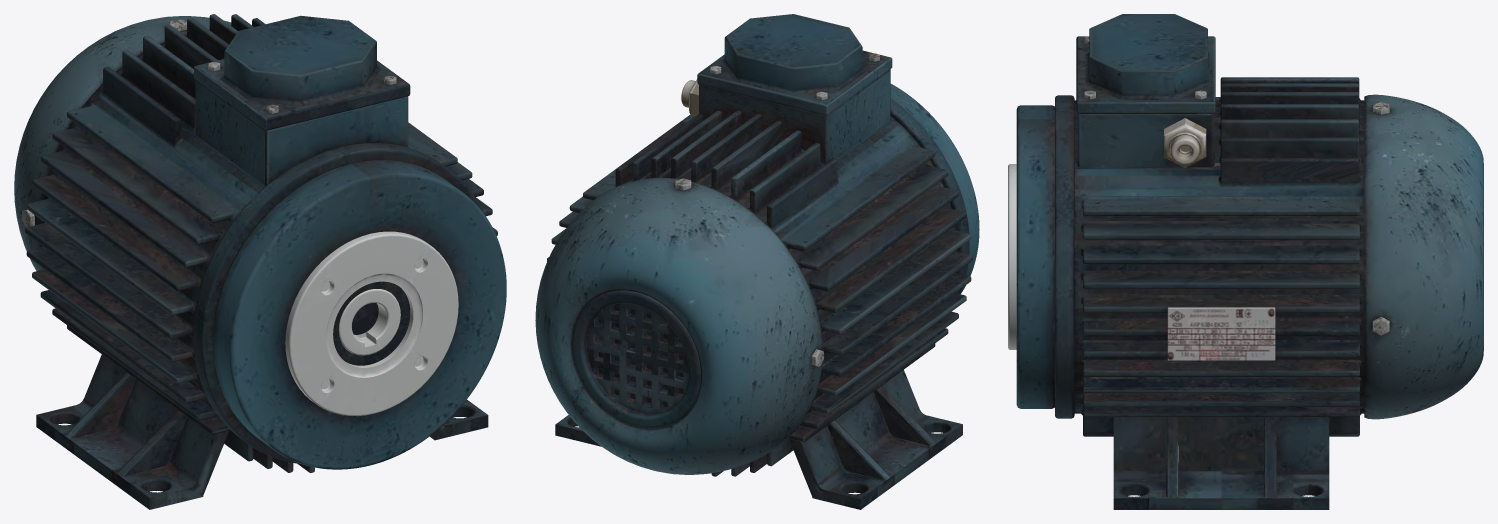
File: electric_motor.glb
3 views of the same model, side by side, from view 1: azimuth 30°, elevation 25°; view 2: azimuth 150°, elevation 25°; view 3: azimuth 270°, elevation 25° (orthographic). The views are drawn at different scales.
Parts seen in each view (by area): view 1: korpus, steel, bolt; view 2: korpus, bolt, plastic; view 3: korpus, icon, plastic, steel, bolt.
Boxes of the visible parts, x1=… form: korpus: x1=14, y1=14, x2=506, y2=509; steel: x1=285, y1=231, x2=458, y2=416; bolt: x1=22, y1=19, x2=396, y2=227; korpus: x1=535, y1=14, x2=979, y2=509; bolt: x1=675, y1=53, x2=879, y2=366; plastic: x1=681, y1=79, x2=698, y2=115; korpus: x1=1016, y1=14, x2=1483, y2=509; icon: x1=1167, y1=307, x2=1275, y2=360; plastic: x1=1164, y1=118, x2=1206, y2=167; steel: x1=1008, y1=164, x2=1016, y2=349; bolt: x1=1084, y1=36, x2=1389, y2=335.
Bounding box in the file's own units: 0.1897 × 0.2193 × 0.2428.
Materials: 1 (1 with a texture image).
